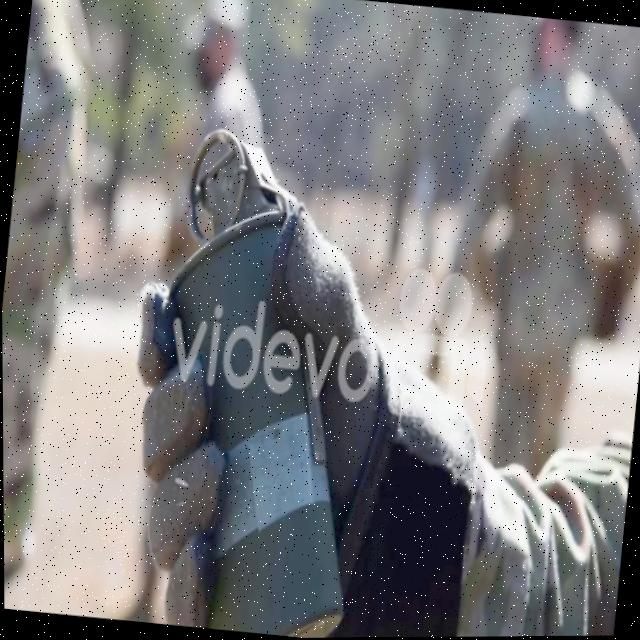grenade: (116, 115, 407, 639)
